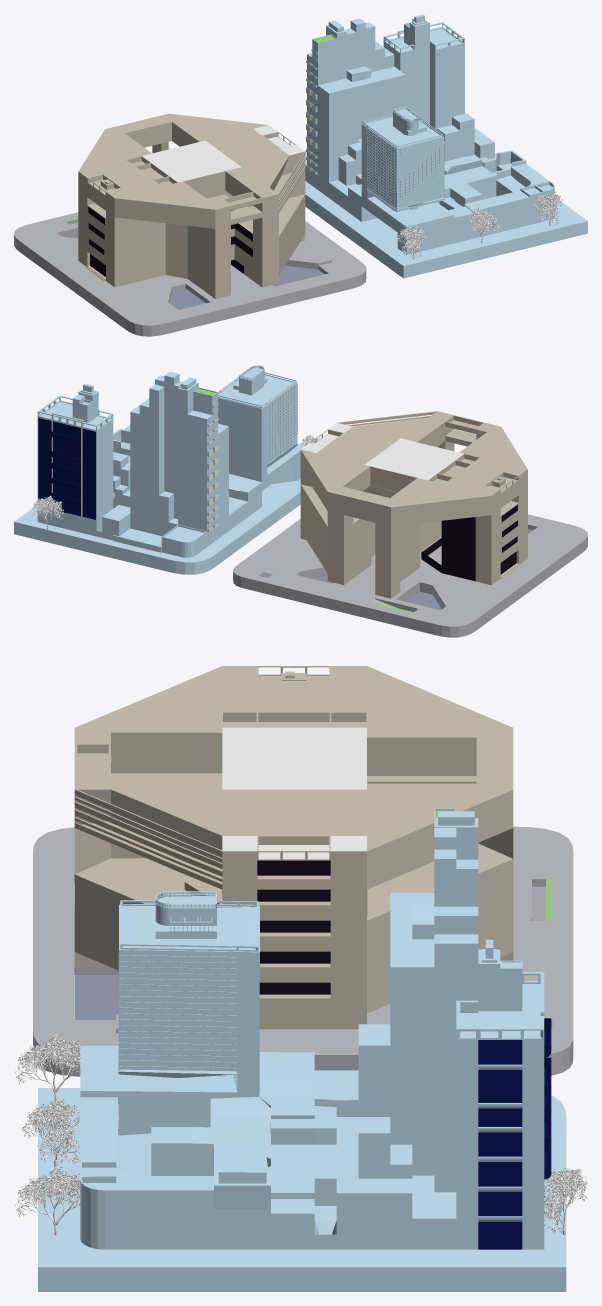
Rendered from mis-edificios.glb.
The picture shows the model from 3 angles, top to bottom: view 1: azimuth 30°, elevation 25°; view 2: azimuth 150°, elevation 25°; view 3: azimuth 270°, elevation 25°; orthographic projection. The views are drawn at different scales.
Parts seen in each view (by area): view 1: ciudad/edificios.005, teatro, piso teatro, Flower01_9.005, Flower01_9.007, Flower01_9.006; view 2: ciudad/edificios.005, teatro, piso teatro, Flower01_9.008; view 3: ciudad/edificios.005, teatro, piso teatro, Flower01_9.006, Flower01_9.007, Flower01_9.005, Flower01_9.008.
Part boxes in pixels (left/top/right/bottom): ciudad/edificios.005: left=305, top=14, right=587, bottom=278; teatro: left=78, top=113, right=305, bottom=298; piso teatro: left=14, top=212, right=366, bottom=336; Flower01_9.005: left=396, top=225, right=426, bottom=259; Flower01_9.007: left=533, top=191, right=563, bottom=225; Flower01_9.006: left=469, top=207, right=499, bottom=242; ciudad/edificios.005: left=14, top=365, right=305, bottom=574; teatro: left=300, top=411, right=527, bottom=598; piso teatro: left=233, top=514, right=587, bottom=637; Flower01_9.008: left=31, top=495, right=63, bottom=529; ciudad/edificios.005: left=38, top=808, right=566, bottom=1291; teatro: left=74, top=666, right=513, bottom=1029; piso teatro: left=33, top=826, right=573, bottom=1076; Flower01_9.006: left=21, top=1099, right=80, bottom=1168; Flower01_9.007: left=14, top=1166, right=80, bottom=1235; Flower01_9.005: left=14, top=1033, right=80, bottom=1102; Flower01_9.008: left=544, top=1167, right=587, bottom=1235.
Bounding box in the file's own units: 254 × 90.9 × 141.
